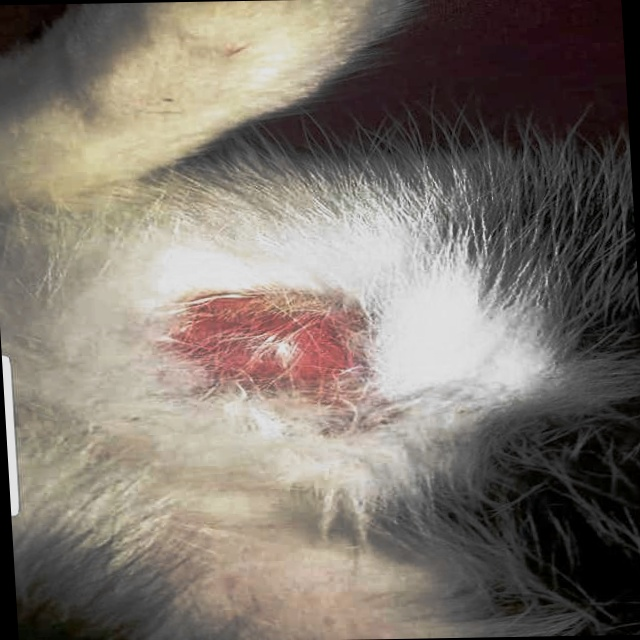lump_and_bump: (196, 299, 352, 403)
